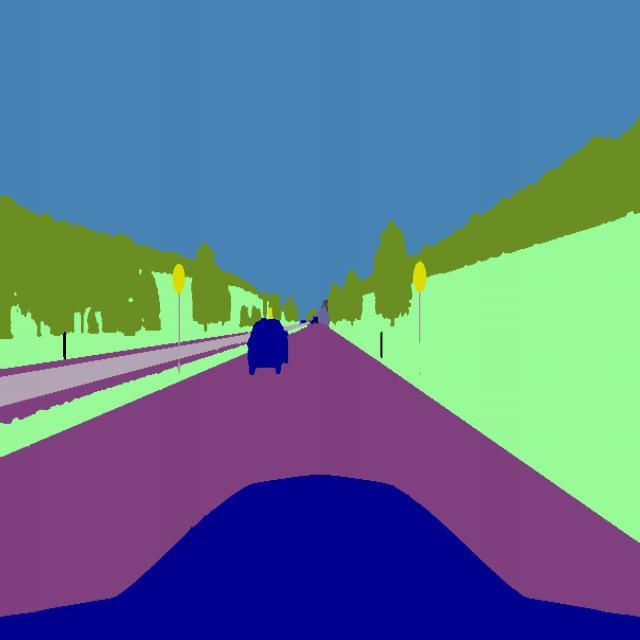safe: (247, 317, 290, 379)
